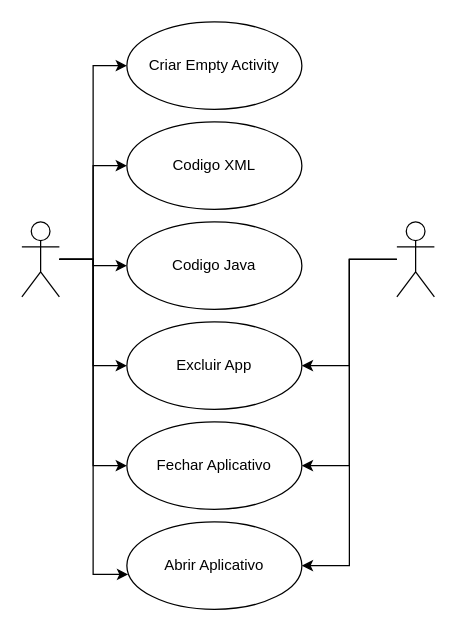
Image size: 469x631. Some labels were removed from this diagram. The shapes that lost their labels are listed below. From the top down, each one's centre as x and y in pixels, then its label:
the point at 40,259: Actor
the point at 415,259: Emulador
